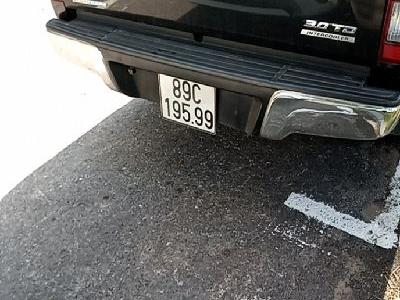lisence: (156, 71, 219, 136)
